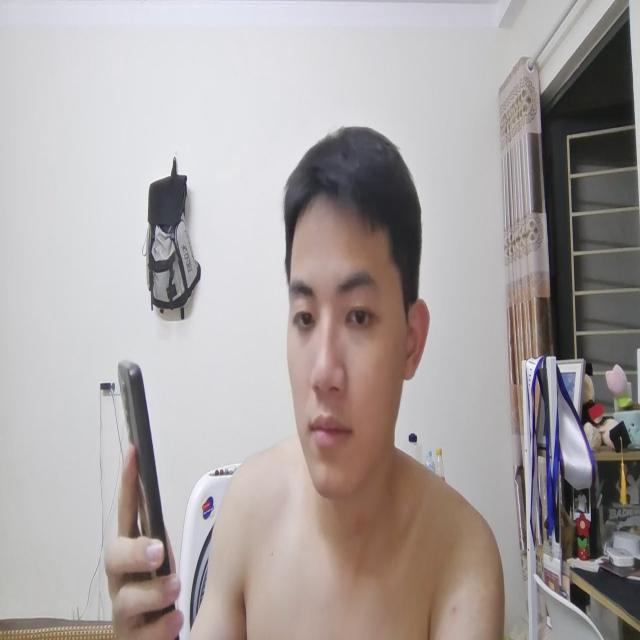phone: (110, 358, 179, 618)
student: (199, 113, 501, 640)
